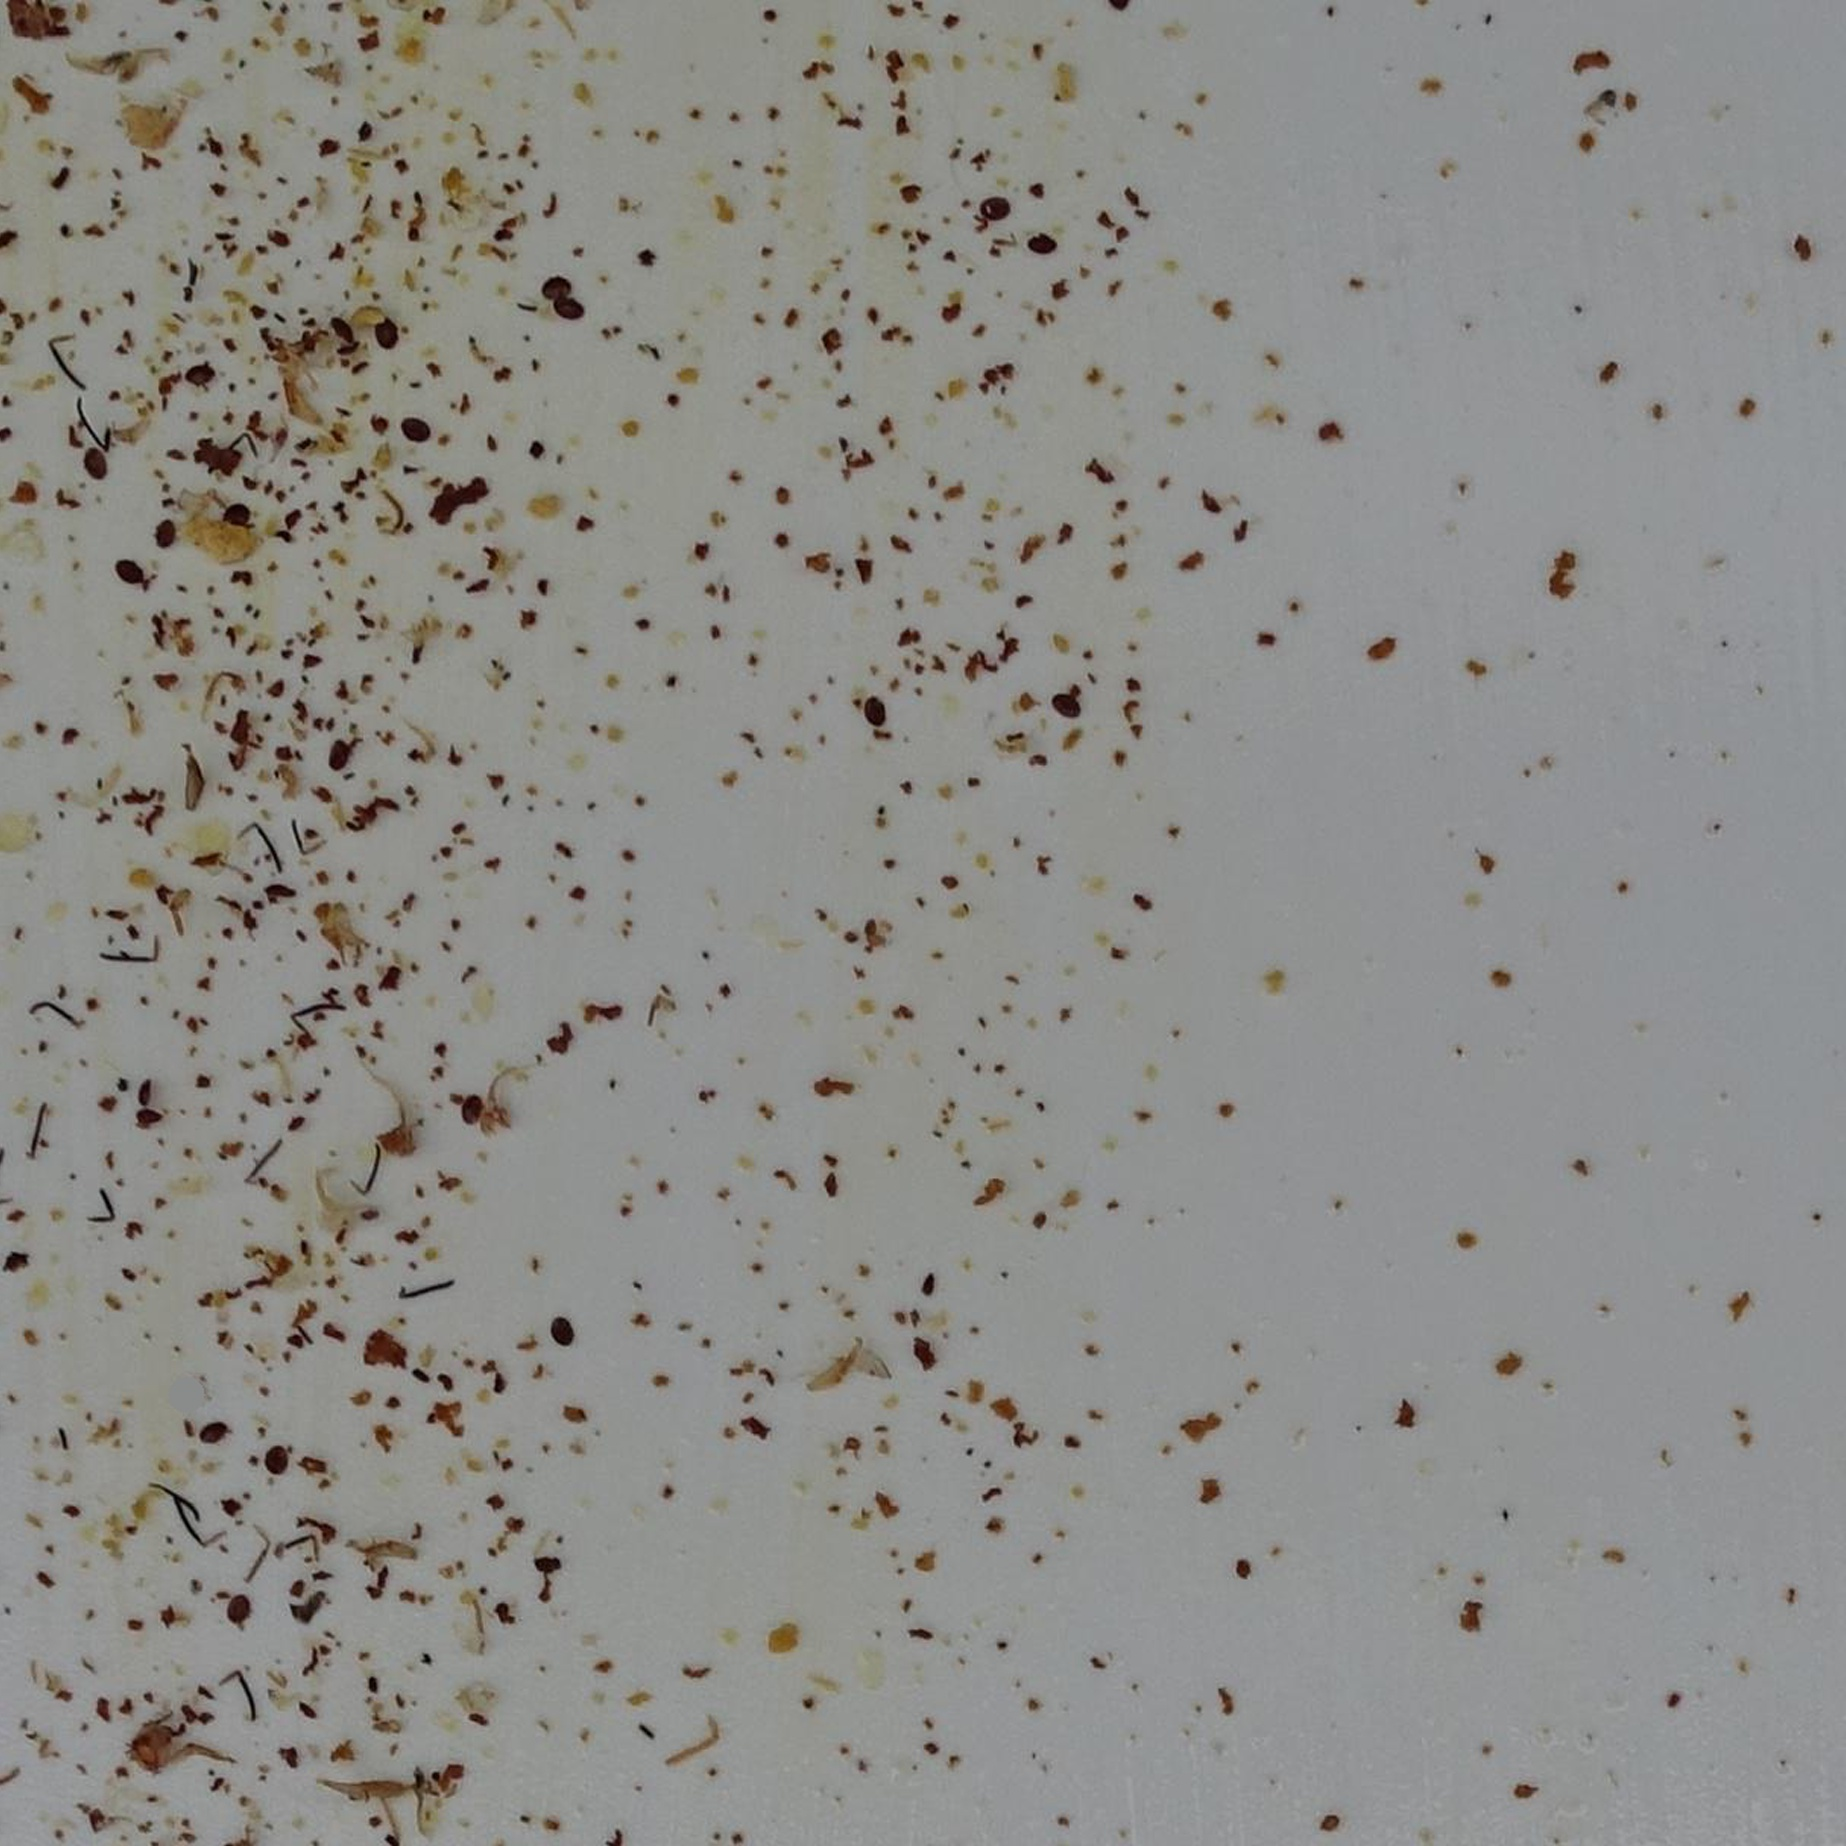Varroa: (532, 264, 576, 308), (328, 740, 355, 769), (220, 504, 247, 529), (1029, 232, 1055, 257), (461, 1099, 485, 1126), (554, 287, 578, 314), (194, 363, 218, 389), (331, 319, 355, 345), (397, 407, 421, 433), (201, 1423, 225, 1447), (156, 519, 179, 543), (86, 450, 108, 475), (866, 698, 887, 722), (221, 1596, 245, 1618), (1055, 690, 1075, 713), (379, 323, 397, 347), (549, 1319, 570, 1339), (987, 198, 1006, 216), (117, 570, 128, 583), (272, 1455, 284, 1467), (130, 566, 140, 580), (418, 424, 428, 438)
